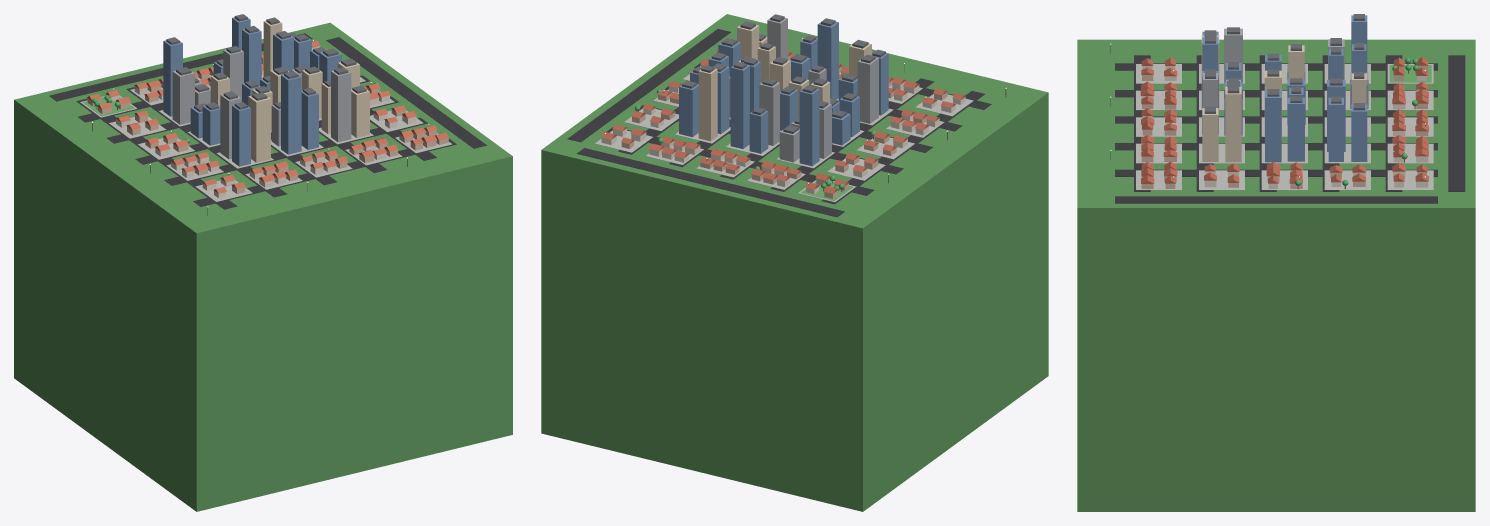
File: ciudad.glb
3 renders of one model, left to right at view 1: azimuth 30°, elevation 25°; view 2: azimuth 150°, elevation 25°; view 3: azimuth 270°, elevation 25°, orthographic. The views are drawn at different scales.
Parts seen in each view (by area): view 1: Suelo, Calle_V_5, Edificio_2_1_0, Edificio_3_1_0, Calle_H_5, Edificio_1_1_1, Edificio_1_1_0, Edificio_1_3_0, Edificio_1_3_2, Edificio_2_1_1, Edificio_2_3_1, Calle_H_0 (+9 smaller); view 2: Suelo, Calle_H_5, Calle_V_5, Edificio_2_3_3, Edificio_1_3_2, Edificio_3_3_2, Edificio_2_1_0, Edificio_1_1_2, Edificio_3_3_3, Edificio_2_3_0, Edificio_3_3_0, Calle_V_0 (+8 smaller); view 3: Suelo, Calle_V_5, Calle_H_5, Edificio_3_1_3, Edificio_3_2_1, Edificio_3_2_3, Edificio_3_3_1, Calle_V_4, Edificio_3_3_3, Calle_V_2, Edificio_3_1_1, Calle_V_3 (+25 smaller).
Part boxes in pixels (left/top/right/bottom): Suelo: left=14, top=22, right=512, bottom=511; Calle_V_5: left=326, top=37, right=486, bottom=148; Edificio_2_1_0: left=281, top=74, right=301, bottom=154; Edificio_3_1_0: left=331, top=70, right=351, bottom=142; Calle_H_5: left=49, top=33, right=312, bottom=101; Edificio_1_1_1: left=248, top=95, right=270, bottom=162; Edificio_1_1_0: left=232, top=105, right=250, bottom=166; Edificio_1_3_0: left=172, top=70, right=194, bottom=124; Edificio_1_3_2: left=163, top=40, right=182, bottom=116; Edificio_2_1_1: left=301, top=90, right=318, bottom=149; Edificio_2_3_1: left=242, top=29, right=261, bottom=85; Calle_H_0: left=193, top=139, right=456, bottom=206; Suelo: left=541, top=14, right=1048, bottom=511; Calle_H_5: left=576, top=148, right=844, bottom=217; Calle_V_5: left=567, top=29, right=730, bottom=142; Edificio_2_3_3: left=730, top=65, right=749, bottom=148; Edificio_1_3_2: left=799, top=88, right=819, bottom=166; Edificio_3_3_2: left=698, top=68, right=717, bottom=141; Edificio_2_1_0: left=817, top=21, right=838, bottom=99; Edificio_1_1_2: left=857, top=57, right=878, bottom=123; Edificio_3_3_3: left=679, top=84, right=698, bottom=137; Edificio_2_3_0: left=759, top=82, right=779, bottom=145; Edificio_3_3_0: left=717, top=66, right=729, bottom=133; Calle_V_0: left=821, top=91, right=984, bottom=204; Suelo: left=1077, top=39, right=1475, bottom=511; Calle_V_5: left=1115, top=196, right=1437, bottom=203; Calle_H_5: left=1448, top=55, right=1465, bottom=191; Edificio_3_1_3: left=1225, top=86, right=1241, bottom=162; Edificio_3_2_1: left=1265, top=90, right=1281, bottom=162; Edificio_3_2_3: left=1287, top=97, right=1304, bottom=161; Edificio_3_3_1: left=1328, top=97, right=1343, bottom=161; Calle_V_4: left=1115, top=169, right=1437, bottom=176; Edificio_3_3_3: left=1351, top=104, right=1367, bottom=161; Calle_V_2: left=1115, top=116, right=1437, bottom=123; Edificio_3_1_1: left=1202, top=108, right=1218, bottom=161; Calle_V_3: left=1115, top=143, right=1437, bottom=150.
Bounding box in the file's own units: 190 × 206 × 190.
